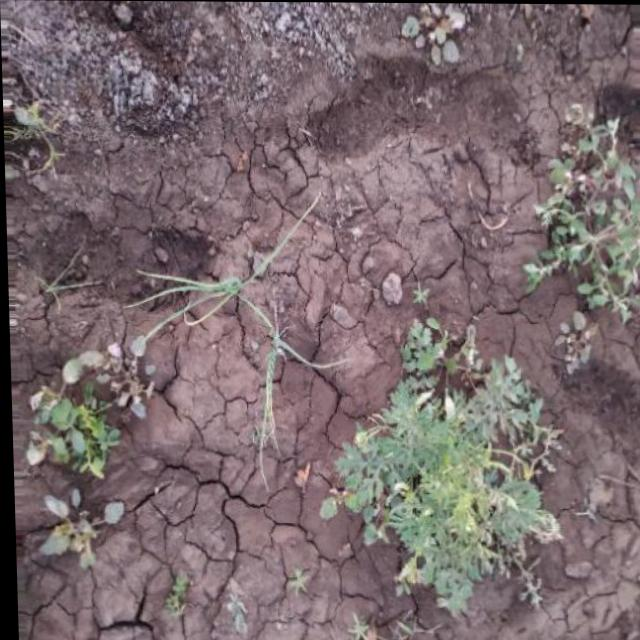weed: (336, 307, 565, 610), (26, 333, 172, 608), (509, 88, 640, 330)
